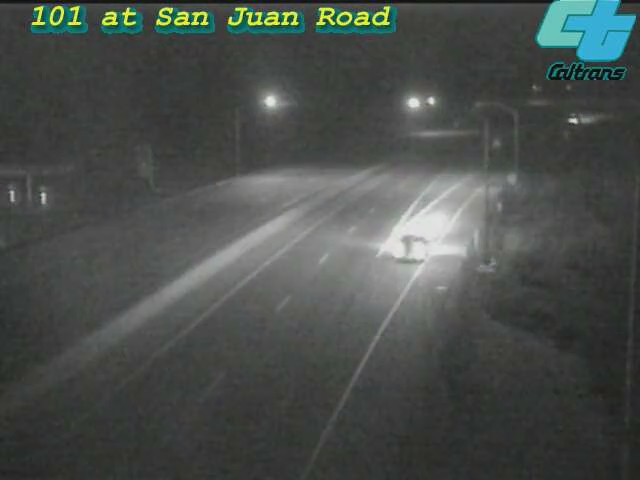vehicle: (372, 210, 452, 290), (551, 93, 601, 143)
